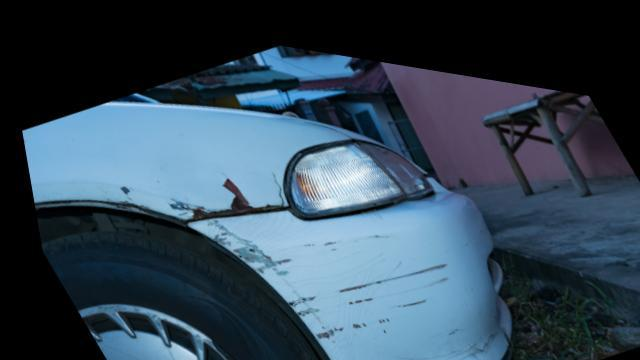crack: (268, 164, 278, 197)
scratch: (198, 214, 491, 360)
